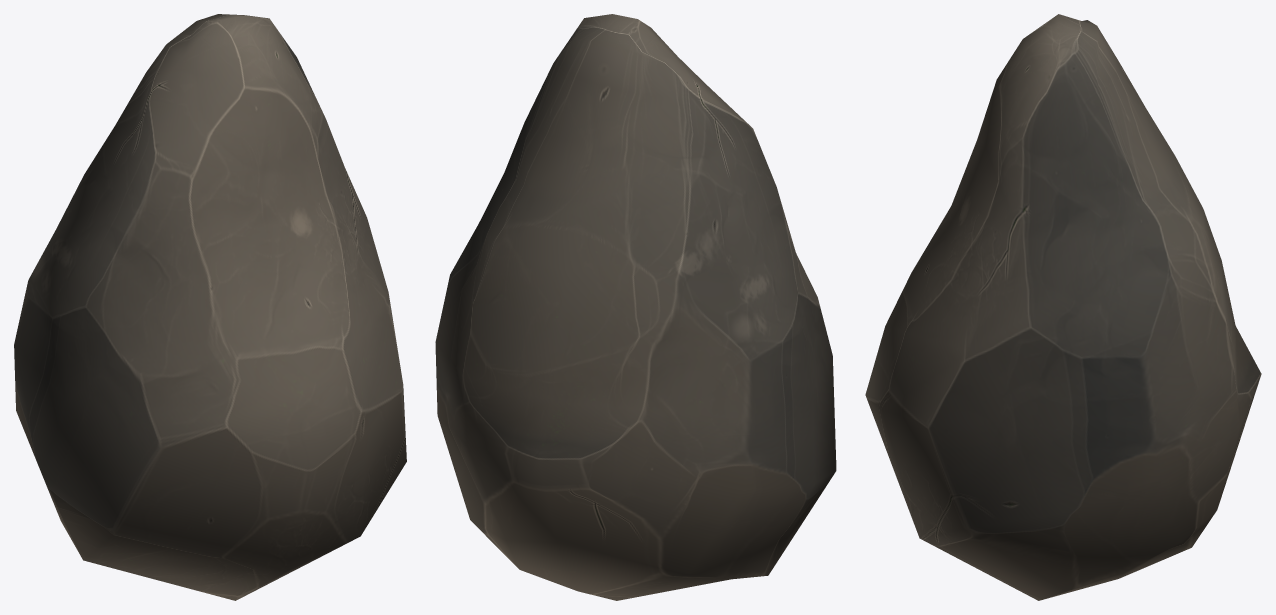
File: low_polygon_stylized_rock_free.glb
3 renders of one model, left to right at view 1: azimuth 30°, elevation 25°; view 2: azimuth 150°, elevation 25°; view 3: azimuth 270°, elevation 25°, orthographic. The views are drawn at different scales.
Parts seen in each view (by area): view 1: SM_STYLIZEDROCK_1_JFG; view 2: SM_STYLIZEDROCK_1_JFG; view 3: SM_STYLIZEDROCK_1_JFG.
Boxes of the visible parts, x1,y1,x2,y2 form: SM_STYLIZEDROCK_1_JFG: (14, 14, 406, 600); SM_STYLIZEDROCK_1_JFG: (435, 14, 836, 600); SM_STYLIZEDROCK_1_JFG: (865, 14, 1261, 600).
Size of the model in its own units: 144 by 226 by 142.
Materials: 1 (1 with a texture image).
